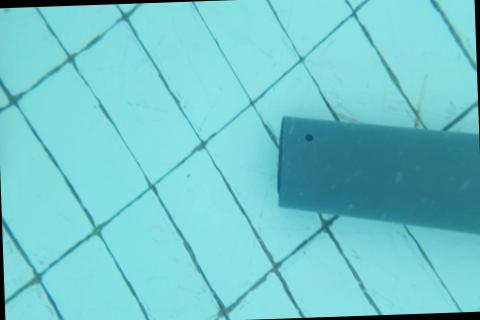kebocoran: (305, 133, 313, 141)
